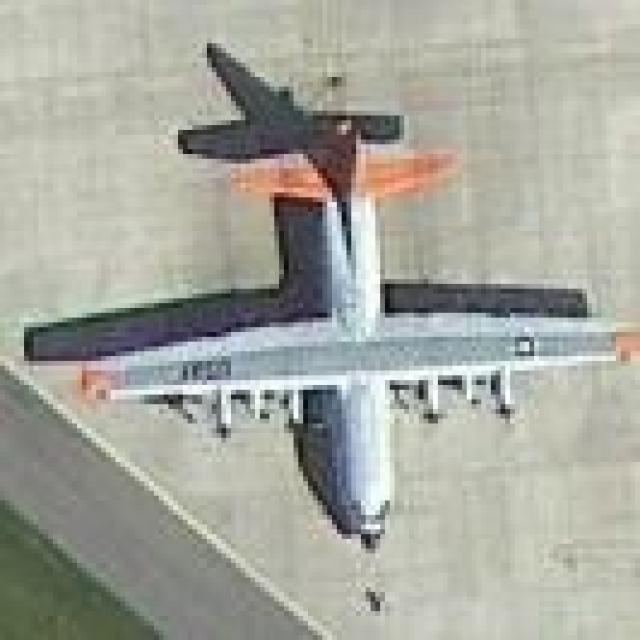C-130_TopDown: (14, 34, 640, 553)
